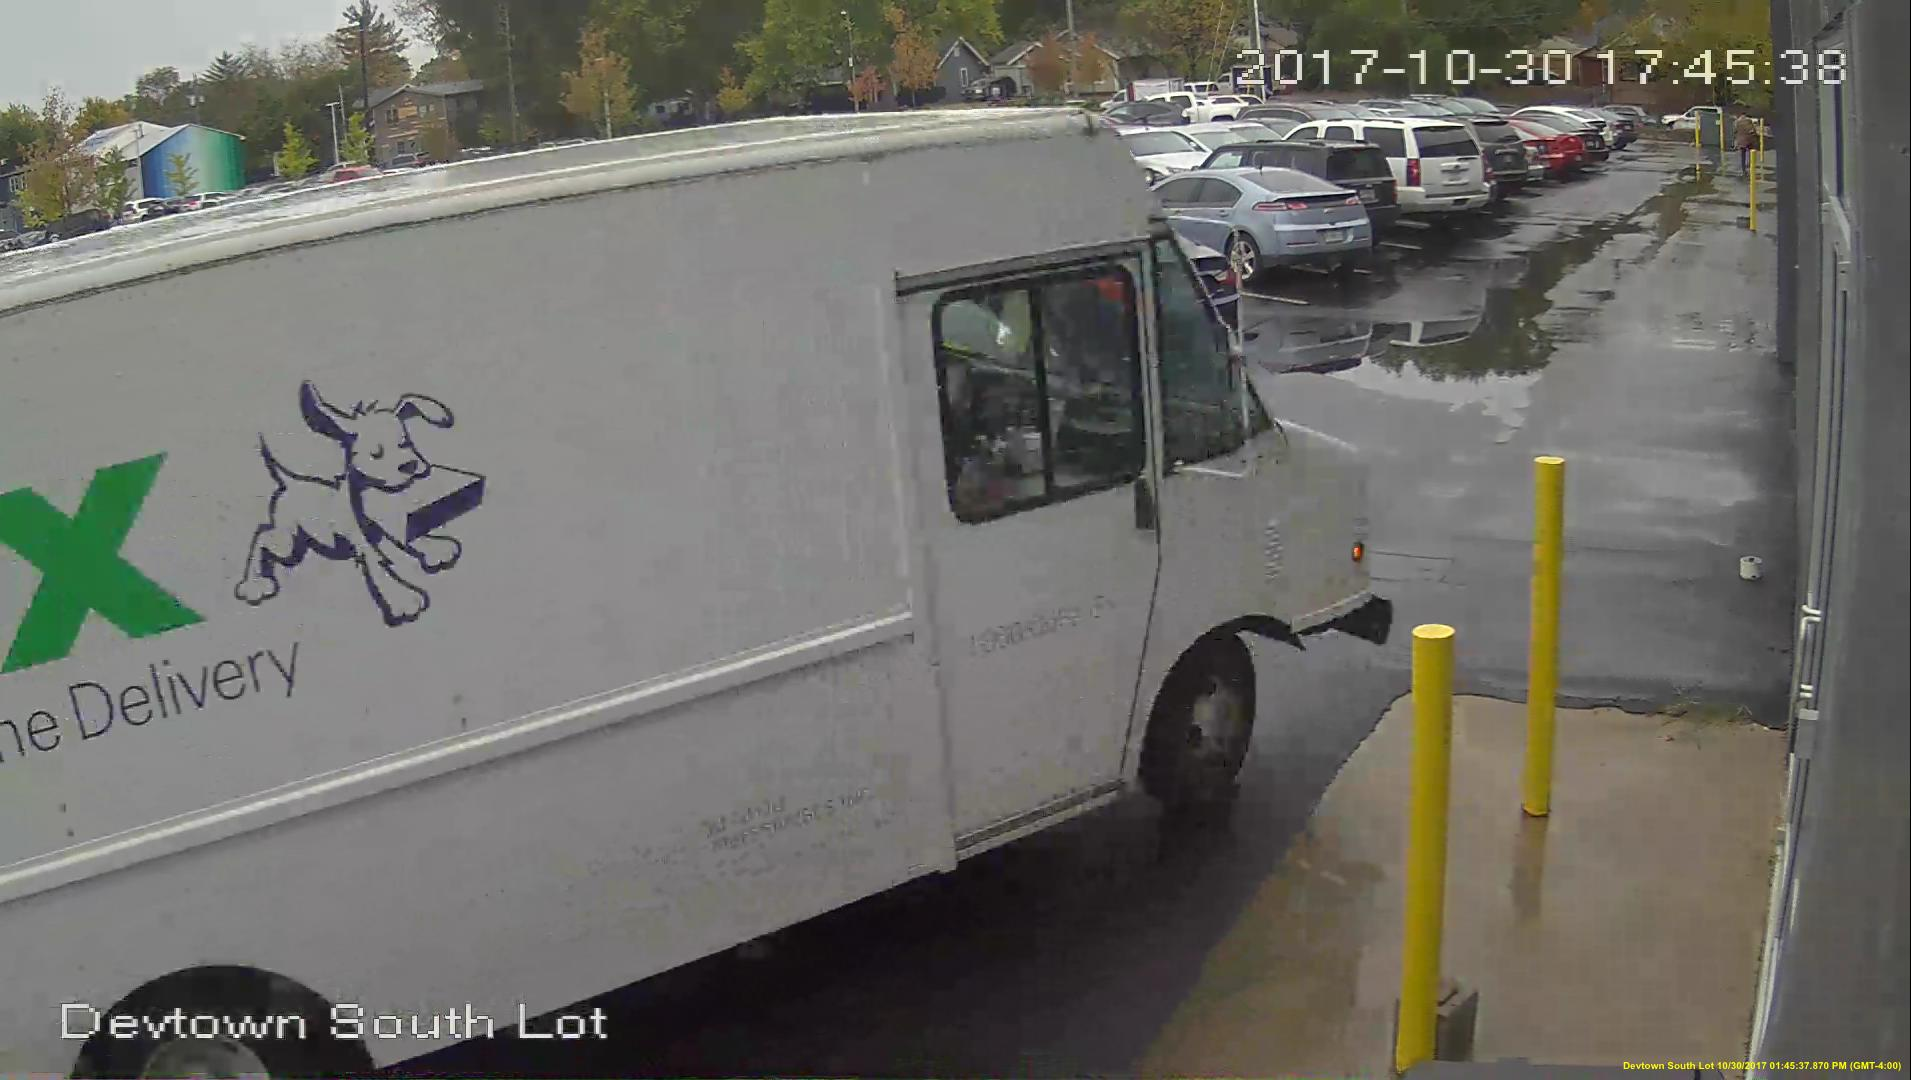fedex_truck: (3, 119, 1383, 1077)
